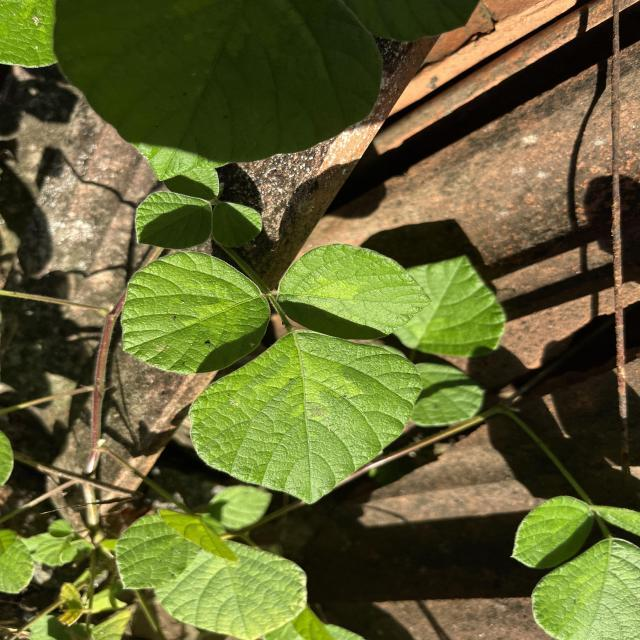Pseudarthria viscida: (119, 240, 435, 510)
